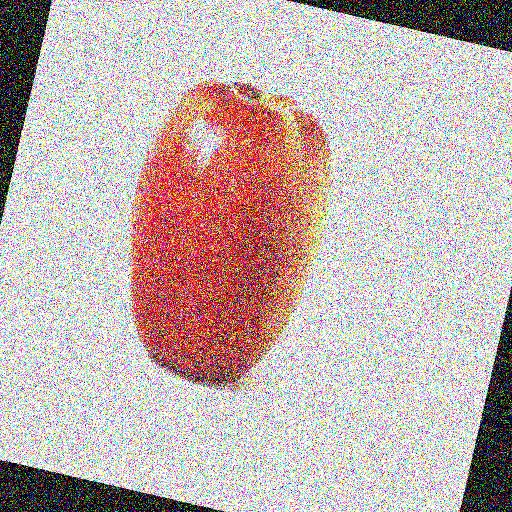fruit: (182, 81, 455, 433)
